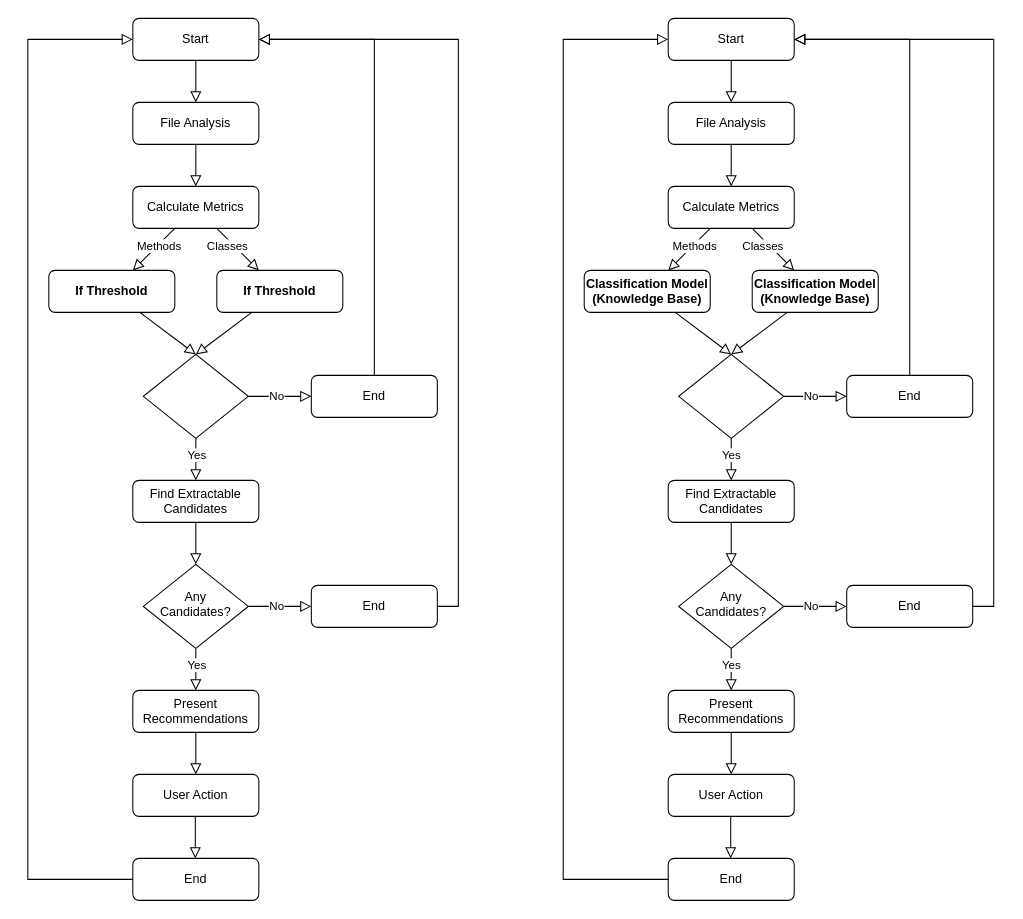
This 1023x919 diagram has some shape labels left out. The centre of each missing label's shape, as x and y in pixels:
"If Threshold Met?" goes at (x=195, y=395).
"Positive Prediction?" goes at (x=731, y=395).
